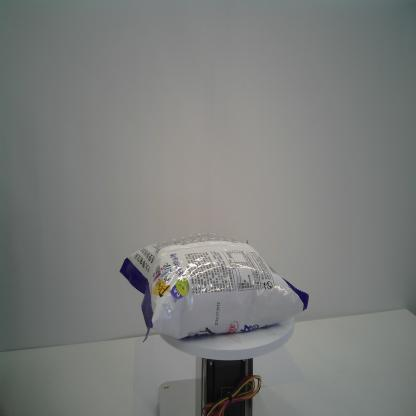Puffed Food: (118, 233, 310, 342)
